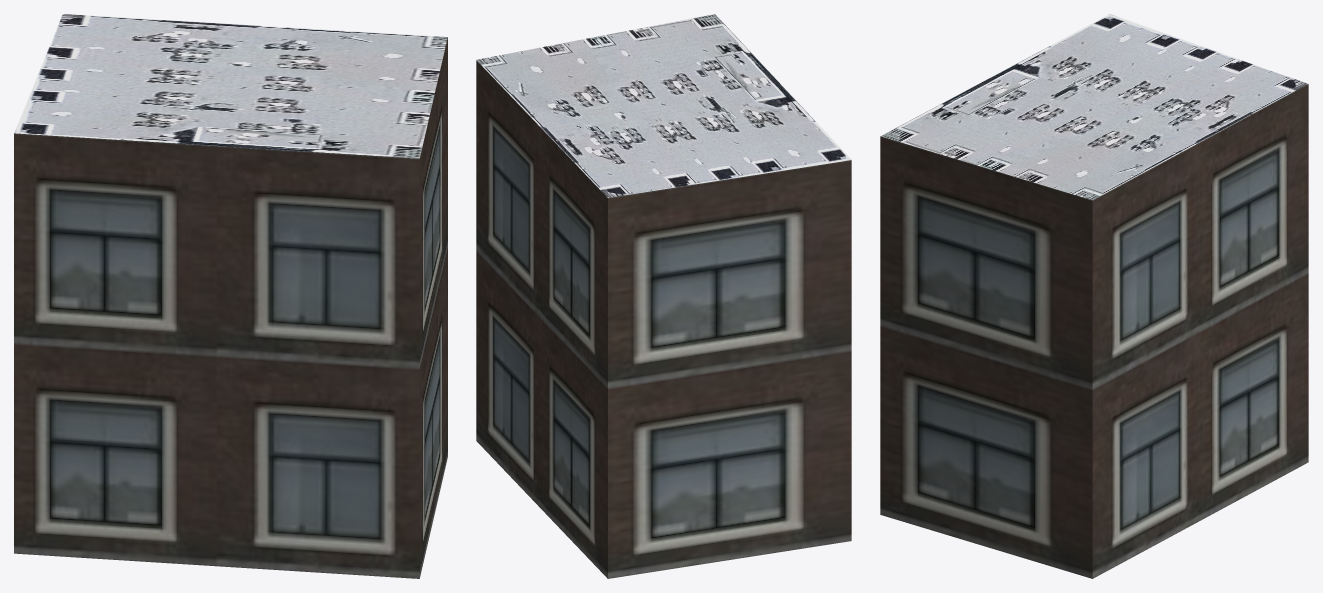
The model's file is ResTex__5117.fbx.
3 renders of one model, left to right at view 1: azimuth 30°, elevation 25°; view 2: azimuth 150°, elevation 25°; view 3: azimuth 270°, elevation 25°, orthographic. The views are drawn at different scales.
Visible parts, largest first — view 1: CityEngineMaterial_16_m, CityEngineMaterial_15_m; view 2: CityEngineMaterial_16_m, CityEngineMaterial_15_m; view 3: CityEngineMaterial_16_m, CityEngineMaterial_15_m.
Boxes of the visible parts, bbox=[...] form: CityEngineMaterial_16_m: bbox=[14, 37, 447, 578]; CityEngineMaterial_15_m: bbox=[14, 14, 447, 158]; CityEngineMaterial_16_m: bbox=[476, 60, 851, 578]; CityEngineMaterial_15_m: bbox=[476, 14, 851, 197]; CityEngineMaterial_16_m: bbox=[880, 84, 1308, 578]; CityEngineMaterial_15_m: bbox=[881, 14, 1308, 200].
Size of the model in its own units: 6.34 by 6 by 6.15.
Materials: 2 (2 with a texture image).
